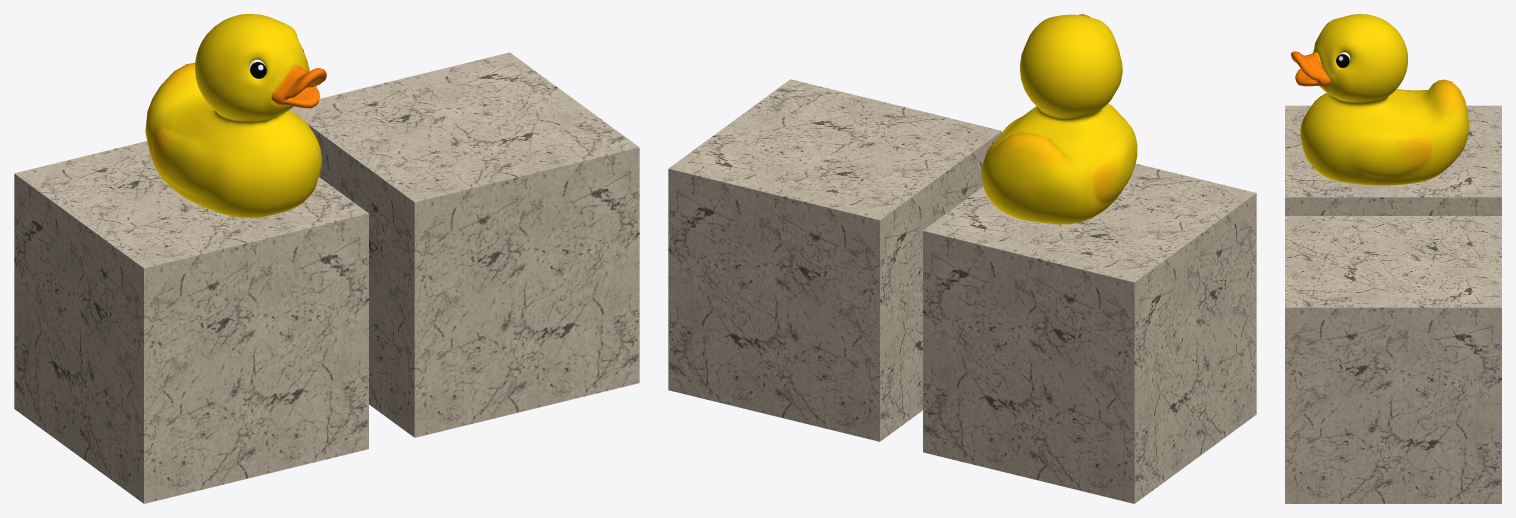
3 views of the same model, side by side, from view 1: azimuth 30°, elevation 25°; view 2: azimuth 150°, elevation 25°; view 3: azimuth 270°, elevation 25° (orthographic). The views are drawn at different scales.
Parts seen in each view (by area): view 1: Cube.002, Cube.001, LOD3spShape; view 2: Cube.002, Cube.001, LOD3spShape; view 3: Cube.001, LOD3spShape, Cube.002.
Part boxes in pixels (bbox=[...]): Cube.002: bbox=[14, 141, 368, 503]; Cube.001: bbox=[289, 52, 639, 437]; LOD3spShape: bbox=[145, 14, 326, 217]; Cube.002: bbox=[923, 163, 1256, 503]; Cube.001: bbox=[668, 79, 1001, 441]; LOD3spShape: bbox=[981, 14, 1137, 224]; Cube.001: bbox=[1285, 216, 1501, 503]; LOD3spShape: bbox=[1291, 14, 1468, 185]; Cube.002: bbox=[1285, 105, 1501, 215].
Size of what is drawn, in the model's own units: 4.41 by 3.52 by 2.
3 materials, 3 textured.
